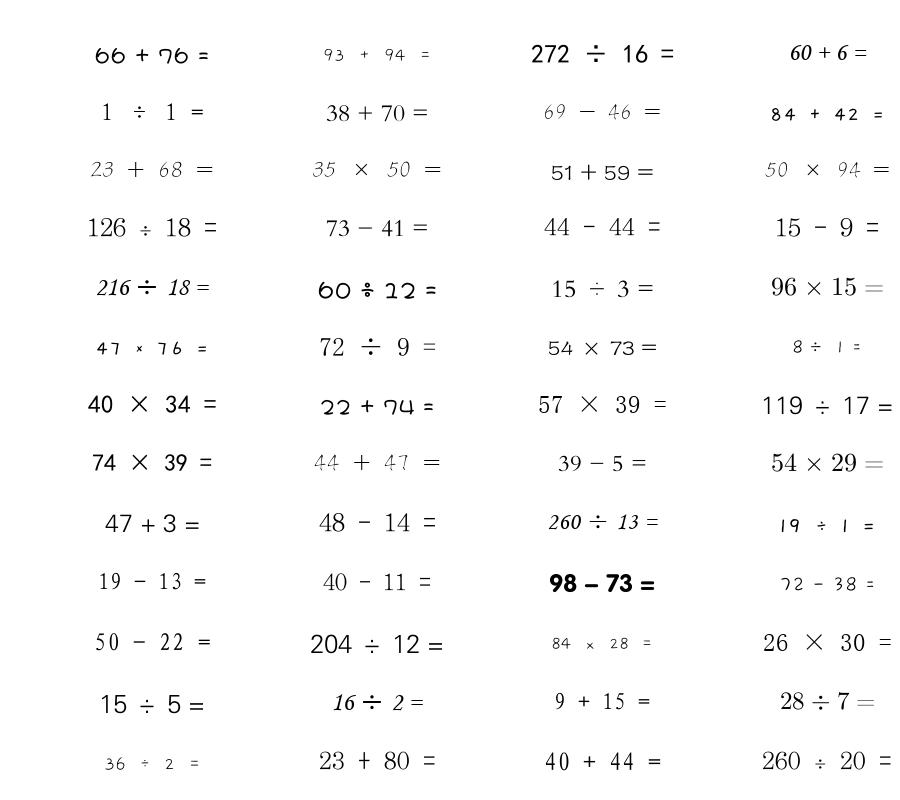MQ: (531, 44, 674, 63), (310, 634, 444, 654), (87, 217, 217, 237), (761, 396, 893, 415), (762, 751, 892, 770), (88, 395, 217, 414), (319, 512, 436, 532), (319, 751, 436, 770), (544, 752, 661, 771), (538, 396, 667, 413), (763, 634, 892, 651), (314, 454, 441, 471), (771, 277, 884, 296), (771, 453, 884, 472), (318, 281, 437, 299), (549, 573, 655, 593), (544, 218, 661, 236), (319, 338, 436, 356), (94, 633, 211, 651), (312, 161, 442, 177), (775, 217, 879, 237), (92, 454, 212, 471), (99, 695, 205, 714), (765, 162, 890, 178), (90, 161, 214, 177), (98, 572, 206, 590), (323, 573, 431, 591), (95, 47, 209, 64), (95, 279, 209, 296), (543, 104, 661, 120), (101, 103, 204, 121), (551, 280, 654, 298), (320, 399, 434, 415), (105, 514, 200, 533), (547, 514, 658, 530), (326, 105, 429, 122), (551, 164, 654, 181), (326, 220, 429, 237), (554, 692, 650, 710), (780, 692, 875, 710), (548, 341, 657, 356), (95, 341, 209, 355), (331, 694, 423, 711), (323, 48, 432, 62), (558, 455, 647, 472), (769, 108, 885, 121), (779, 577, 875, 592), (779, 519, 876, 533), (104, 757, 201, 771), (551, 637, 653, 650), (788, 45, 867, 60), (792, 340, 862, 354)
